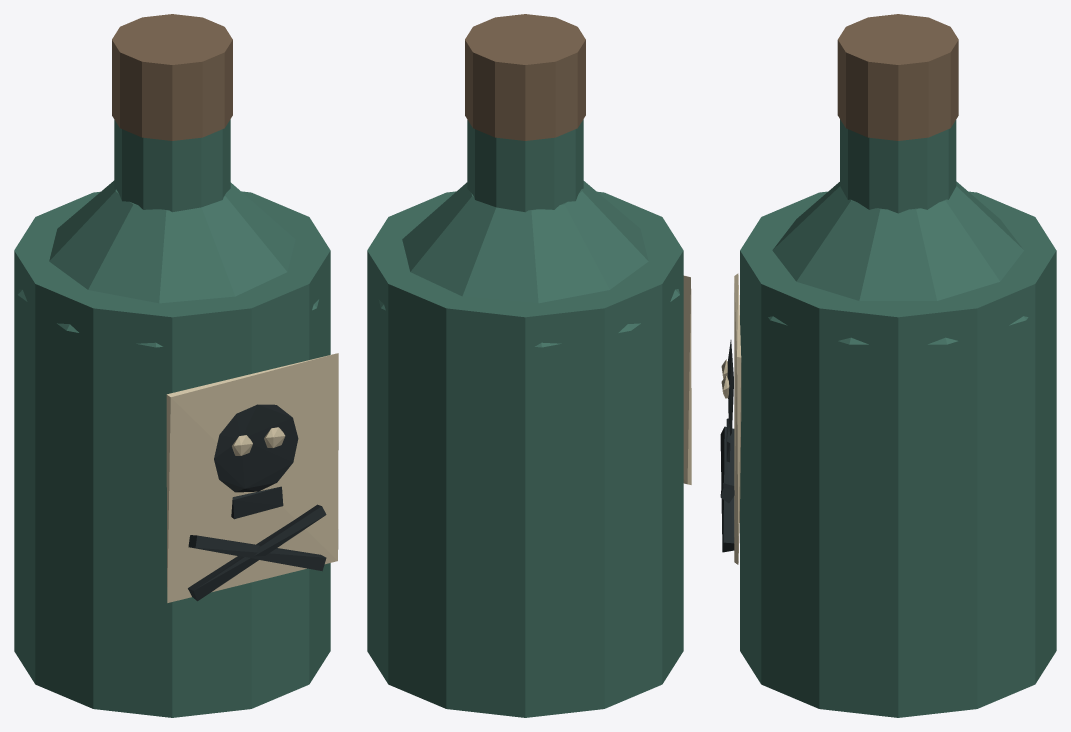
The model's file is poison_vial.glb.
3 renders of one model, left to right at view 1: azimuth 30°, elevation 25°; view 2: azimuth 150°, elevation 25°; view 3: azimuth 270°, elevation 25°, orthographic.
Parts seen in each view (by area): view 1: poison_vial; view 2: poison_vial; view 3: poison_vial.
Boxes of the visible parts, x1,y1,x2,y2 form: poison_vial: (14,14,338,717); poison_vial: (367,14,691,717); poison_vial: (720,14,1056,717).
Bounding box in the file's own units: 0.136 × 0.29 × 0.1444.
